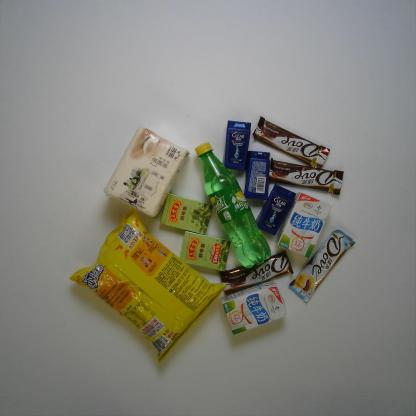Candy: (159, 191, 218, 236), (174, 229, 233, 273)
Chocolate: (287, 230, 356, 306), (251, 114, 332, 173), (263, 156, 345, 196), (220, 249, 292, 294)
Drink: (194, 139, 271, 272)
Milk: (274, 190, 334, 263), (220, 278, 288, 338)
Personal Hygiene: (250, 182, 297, 238), (221, 116, 253, 171), (240, 147, 272, 200)
Puffed Food: (68, 210, 229, 364)
Tissue: (101, 122, 187, 220)
